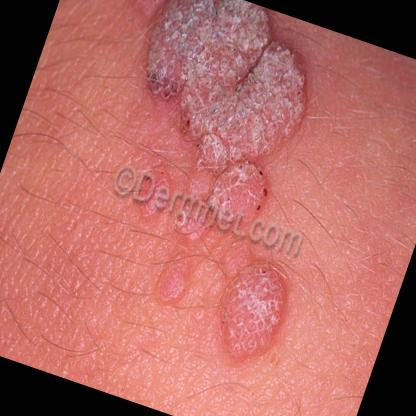Warts: (200, 242, 308, 379)
